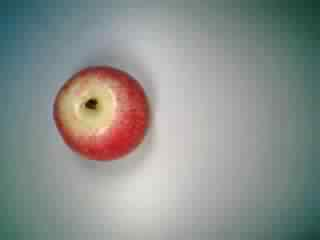apple: (51, 60, 154, 161)
